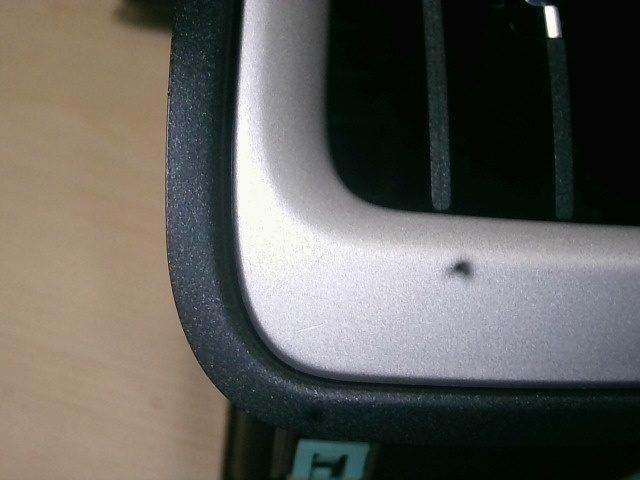NG: (293, 318, 330, 341)
